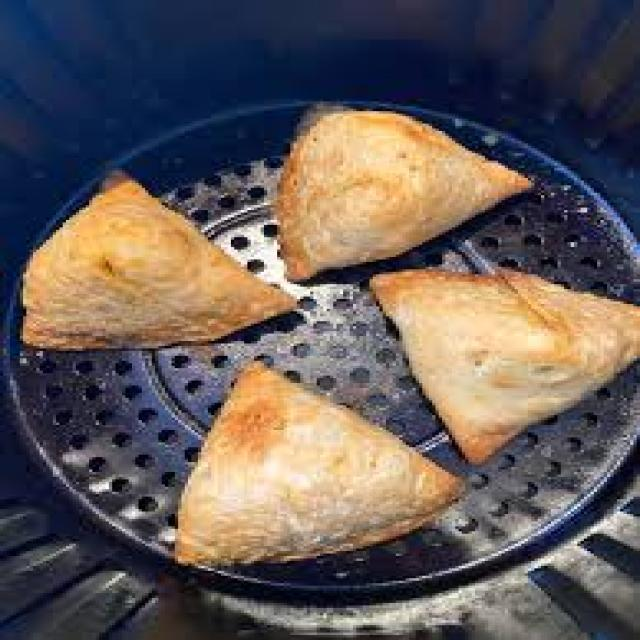SAMOSA: (174, 350, 464, 566), (365, 269, 637, 463), (26, 167, 305, 349), (273, 102, 538, 287)
